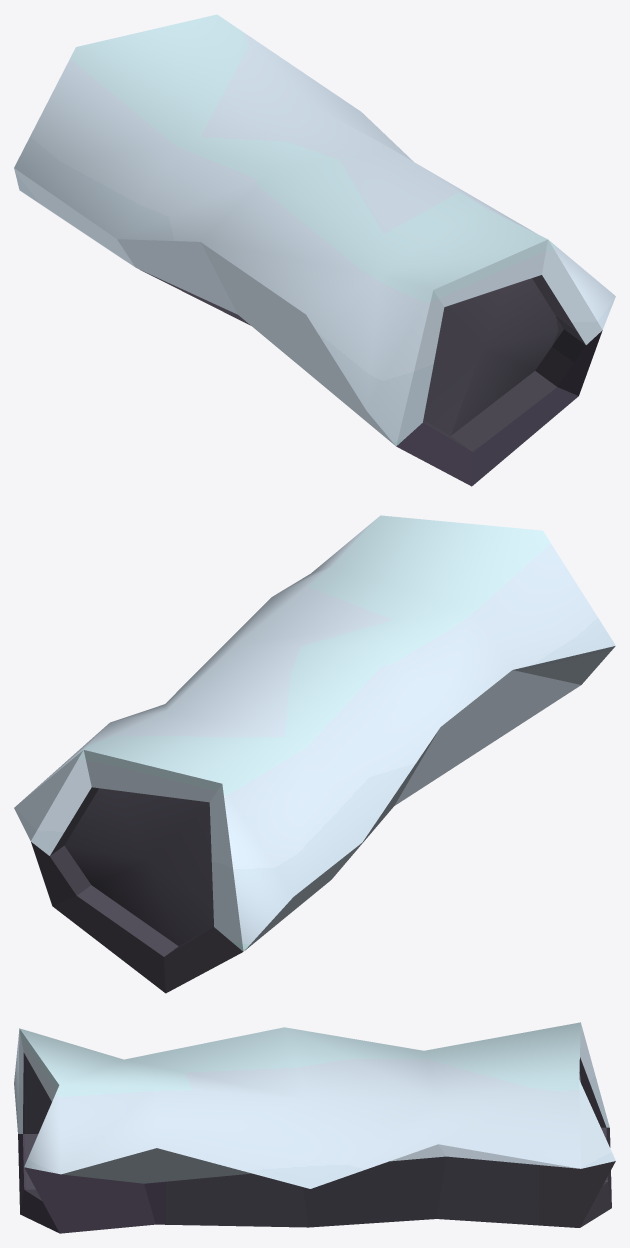
File: SS_Log.fbx
3 renders of one model, top to bottom at view 1: azimuth 30°, elevation 25°; view 2: azimuth 150°, elevation 25°; view 3: azimuth 270°, elevation 25°, orthographic. The views are drawn at different scales.
Visible parts, largest first — view 1: Log; view 2: Log; view 3: Log.
Boxes of the visible parts, box(x1,y1,x2,y2) form: Log: box(14, 14, 615, 486); Log: box(14, 515, 615, 993); Log: box(14, 1022, 615, 1233).
Size of the model in its own units: 2.83 by 1.93 by 6.1.
Materials: 1 (1 with a texture image).
